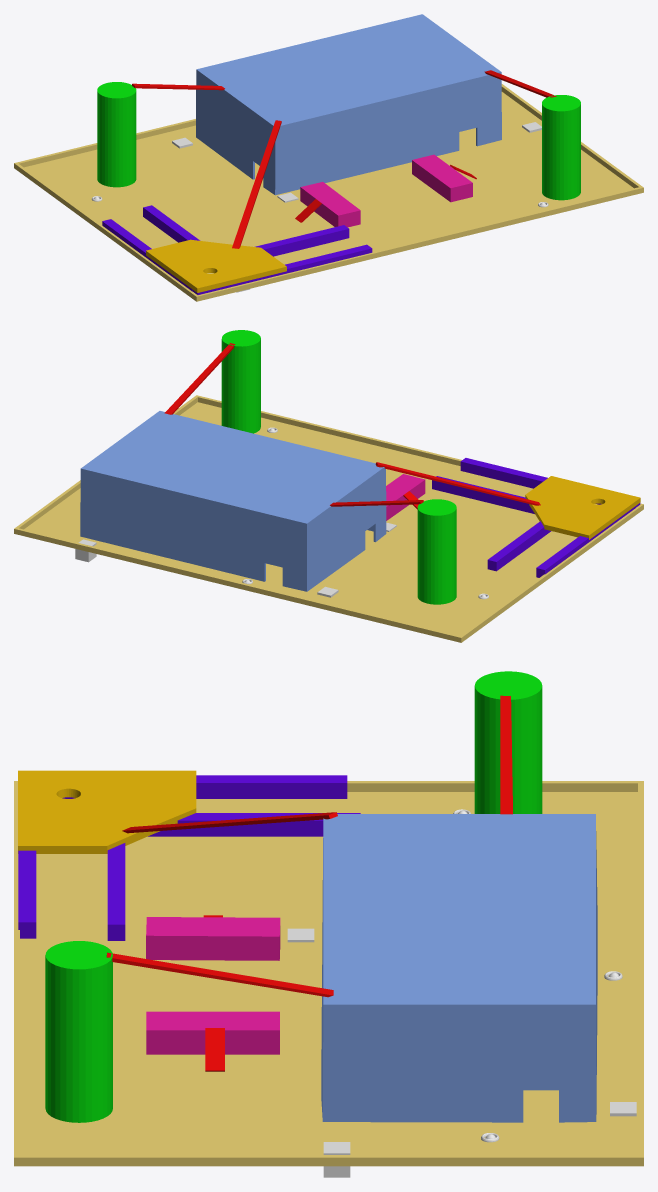
Rendered from level 1 test.fbx.
The picture shows the model from 3 angles, top to bottom: view 1: azimuth 30°, elevation 25°; view 2: azimuth 150°, elevation 25°; view 3: azimuth 270°, elevation 25°; orthographic projection. The views are drawn at different scales.
Visible parts, largest first — view 1: Plane, Plane.001, Cube.008, Cylinder.001, Cylinder, Cube, Cube.003, Cube.006, Cube.007, Cube.010, Cube.005, Cube.004 (+1 smaller); view 2: Plane.001, Plane, Cube.008, Cylinder.001, Cylinder, Cube.007, Cube.006, Cube.005, Cube.003, Cube.010, Cube.004, Cube.012 (+1 smaller); view 3: Plane, Plane.001, Cube.008, Cylinder, Cylinder.001, Cube.003, Cube, Cube.004, Cube.005, Cube.012, Cube.006, Cube.007 (+3 smaller).
Boxes of the visible parts, x1,y1,x2,y2 form: Plane: [14, 84, 643, 301]; Plane.001: [196, 14, 501, 195]; Cube.008: [146, 239, 286, 292]; Cylinder.001: [97, 82, 136, 187]; Cylinder: [542, 95, 580, 200]; Cube: [412, 154, 472, 202]; Cube.003: [300, 182, 360, 227]; Cube.006: [255, 225, 349, 256]; Cube.007: [193, 244, 372, 294]; Cube.010: [232, 120, 281, 248]; Cube.005: [143, 205, 200, 242]; Cube.004: [102, 219, 192, 291]; Plane.001: [80, 411, 386, 591]; Plane: [14, 395, 643, 642]; Cube.008: [525, 476, 640, 539]; Cylinder.001: [417, 499, 456, 604]; Cylinder: [221, 330, 260, 433]; Cube.007: [460, 458, 640, 507]; Cube.006: [432, 476, 534, 513]; Cube.005: [487, 521, 551, 571]; Cube.003: [386, 474, 425, 520]; Cube.010: [375, 462, 540, 505]; Cube.004: [536, 506, 635, 577]; Cube.012: [164, 343, 235, 414]; Plane: [14, 781, 643, 1166]; Plane.001: [321, 814, 597, 1122]; Cube.008: [18, 770, 196, 853]; Cylinder: [45, 941, 112, 1122]; Cylinder.001: [474, 671, 542, 813]; Cube.003: [146, 917, 280, 960]; Cube: [146, 1011, 279, 1054]; Cube.004: [62, 775, 347, 798]; Cube.005: [148, 813, 360, 836]; Cube.012: [106, 952, 333, 997]; Cube.006: [107, 843, 125, 940]; Cube.007: [18, 850, 36, 938].
Size of the model in its own units: 20000 by 4528 by 14138.
